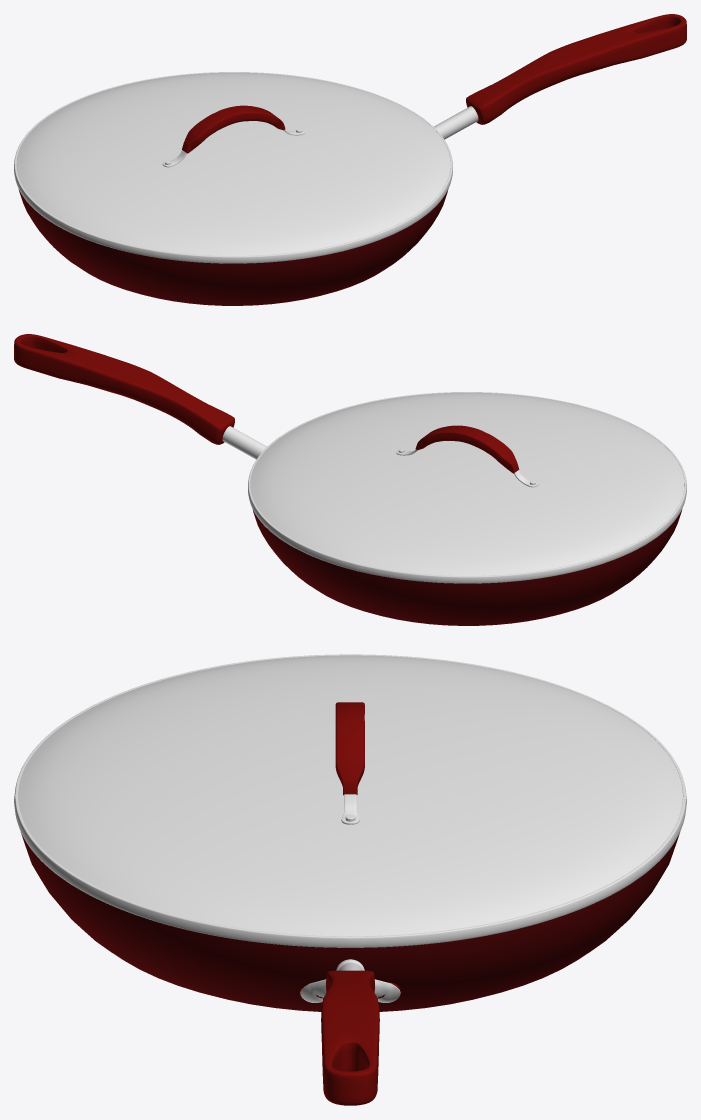
File: pan.glb
The picture shows the model from 3 angles, top to bottom: view 1: azimuth 30°, elevation 25°; view 2: azimuth 150°, elevation 25°; view 3: azimuth 270°, elevation 25°; orthographic projection. The views are drawn at different scales.
Visible parts, largest first — view 1: Cover, Pan, MainHandle, Cover.001, Handle; view 2: Cover, Pan, MainHandle, Cover.001, Handle; view 3: Cover, Pan, Cover.001, MainHandle, Handle.
Part boxes in pixels (x1=…): Cover: x1=16, y1=72, x2=450, y2=255; Pan: x1=18, y1=189, x2=448, y2=305; MainHandle: x1=434, y1=14, x2=686, y2=139; Cover.001: x1=14, y1=72, x2=452, y2=263; Handle: x1=162, y1=105, x2=304, y2=167; Cover: x1=250, y1=392, x2=684, y2=575; Pan: x1=252, y1=509, x2=682, y2=625; MainHandle: x1=14, y1=334, x2=266, y2=459; Cover.001: x1=248, y1=392, x2=686, y2=583; Handle: x1=396, y1=425, x2=538, y2=487; Cover: x1=18, y1=655, x2=682, y2=936; Pan: x1=21, y1=833, x2=679, y2=1011; Cover.001: x1=14, y1=654, x2=686, y2=947; MainHandle: x1=299, y1=959, x2=401, y2=1105; Handle: x1=335, y1=702, x2=364, y2=824.
Size of the model in its own units: 6.03 by 1.14 by 3.58.
